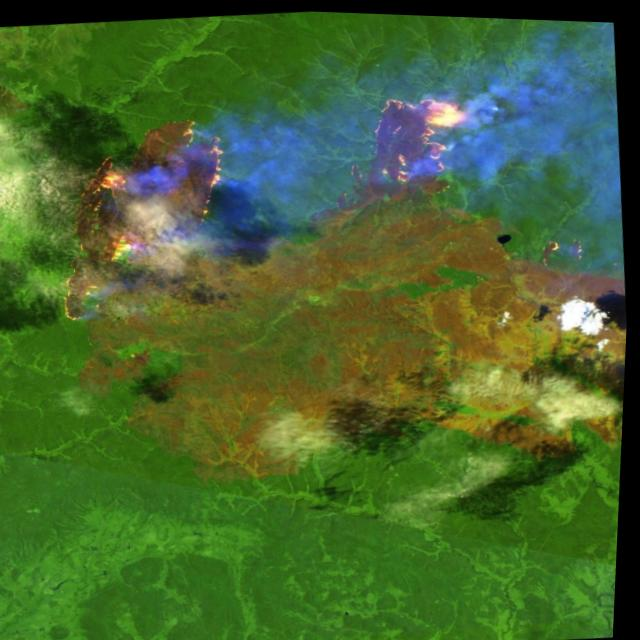fire: (48, 107, 246, 327), (321, 81, 478, 213)
